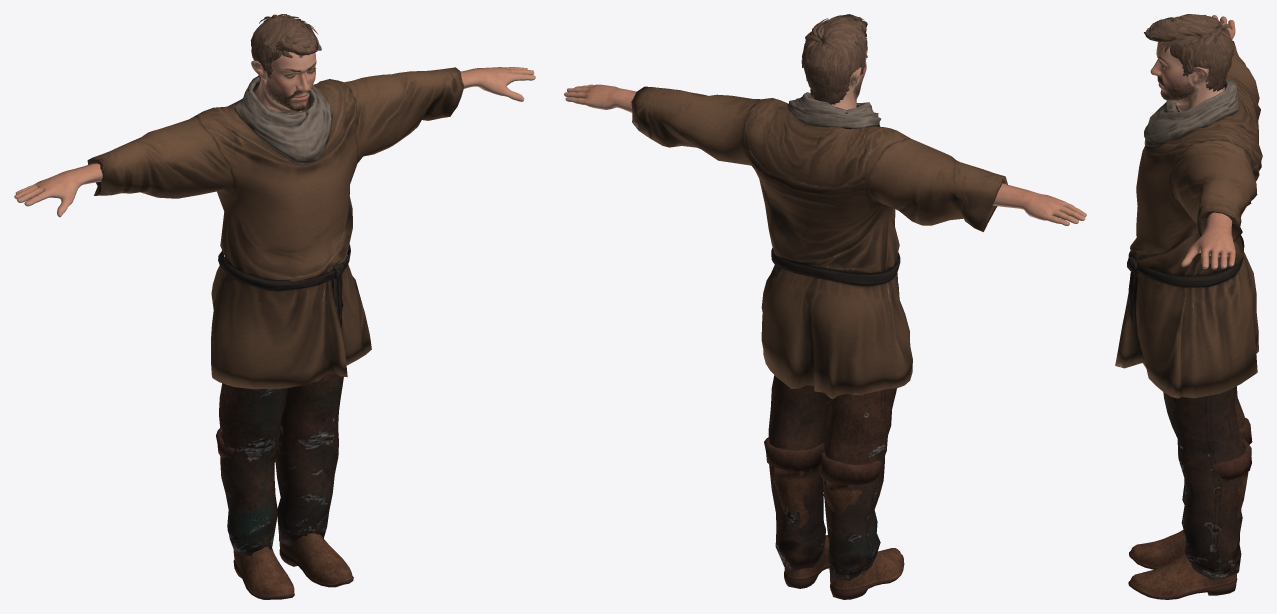
File: male V2.obj
3 views of the same model, side by side, from view 1: azimuth 30°, elevation 25°; view 2: azimuth 150°, elevation 25°; view 3: azimuth 270°, elevation 25° (orthographic).
Visible parts, largest first — view 1: Tops, Bottoms, Body, Shoes, Hair; view 2: Tops, Bottoms, Shoes, Hair, Body; view 3: Tops, Bottoms, Shoes, Body, Hair.
Boxes of the visible parts, x1,y1,x2,y2 form: Tops: (87, 67, 464, 389); Bottoms: (219, 372, 343, 555); Body: (14, 52, 535, 217); Shoes: (216, 426, 353, 599); Hair: (250, 14, 321, 81); Tops: (631, 86, 1007, 398); Bottoms: (768, 375, 896, 581); Shoes: (764, 437, 904, 599); Hair: (802, 14, 867, 104); Body: (564, 50, 1086, 225); Tops: (1115, 40, 1262, 398); Bottoms: (1163, 386, 1244, 579); Shoes: (1128, 417, 1252, 599); Body: (1150, 15, 1235, 269); Hair: (1144, 14, 1233, 91).
Size of the model in its own units: 175 by 181 by 42.96.
Materials: 5 (5 with a texture image).
